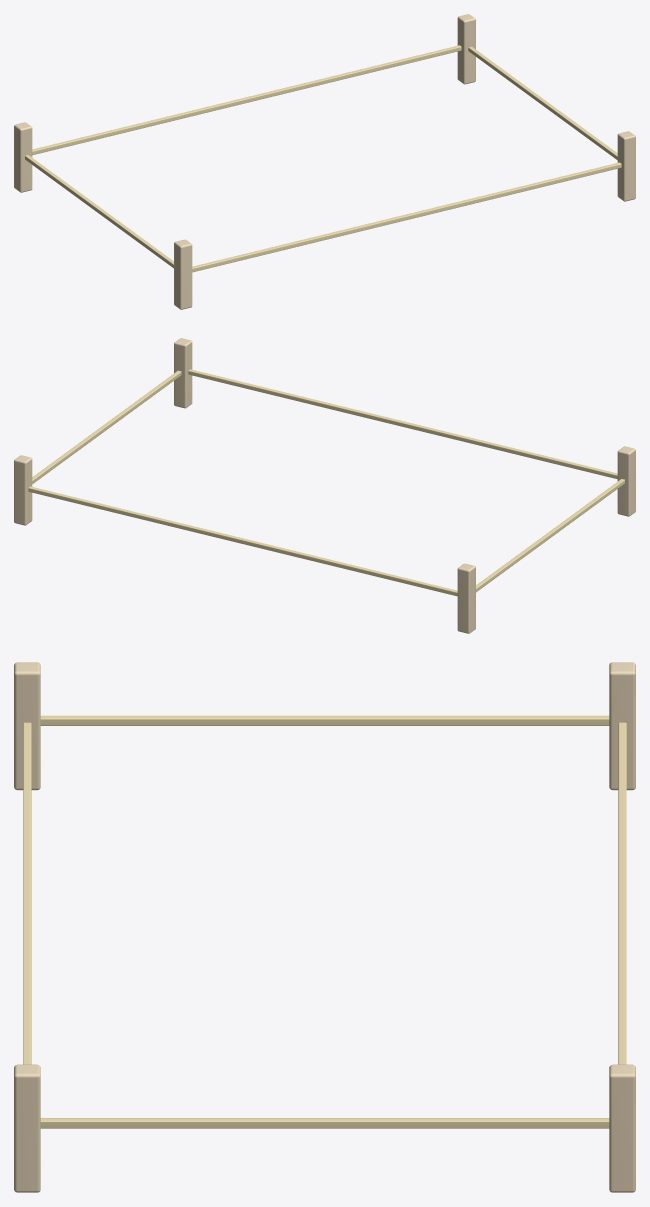
The model's file is shelter-planned.glb.
3 views of the same model, one above another, from view 1: azimuth 30°, elevation 25°; view 2: azimuth 150°, elevation 25°; view 3: azimuth 270°, elevation 25° (orthographic). The views are drawn at different scales.
Visible parts, largest first — view 1: Setting-out cord, Setting-out cord.001, Survey peg, Survey peg.002, Survey peg.001, Survey peg.003, Setting-out cord.003, Setting-out cord.002; view 2: Setting-out cord.001, Setting-out cord, Survey peg.001, Survey peg.003, Survey peg, Survey peg.002, Setting-out cord.003, Setting-out cord.002; view 3: Setting-out cord.003, Setting-out cord.002, Survey peg.002, Survey peg.003, Setting-out cord, Setting-out cord.001, Survey peg, Survey peg.001.
Boxes of the visible parts, x1,y1,x2,y2 form: Setting-out cord: [192, 162, 621, 272]; Setting-out cord.001: [32, 45, 461, 155]; Survey peg: [174, 239, 192, 309]; Survey peg.002: [617, 131, 635, 201]; Survey peg.001: [14, 122, 32, 192]; Survey peg.003: [457, 14, 475, 84]; Setting-out cord.003: [468, 46, 617, 159]; Setting-out cord.002: [25, 155, 173, 268]; Setting-out cord.001: [28, 486, 457, 596]; Setting-out cord: [188, 369, 617, 479]; Survey peg.001: [457, 563, 475, 633]; Survey peg.003: [14, 455, 32, 525]; Survey peg: [617, 446, 635, 516]; Survey peg.002: [174, 338, 192, 408]; Setting-out cord.003: [32, 370, 181, 483]; Setting-out cord.002: [476, 479, 624, 592]; Setting-out cord.003: [40, 1118, 609, 1128]; Setting-out cord.002: [40, 715, 609, 725]; Survey peg.002: [14, 1064, 40, 1192]; Survey peg.003: [609, 1064, 635, 1192]; Setting-out cord: [23, 722, 31, 1064]; Setting-out cord.001: [618, 722, 626, 1064]; Survey peg: [14, 662, 40, 790]; Survey peg.001: [609, 662, 635, 790].
Bounding box in the file's own units: 3.29 × 0.44 × 2.09.
